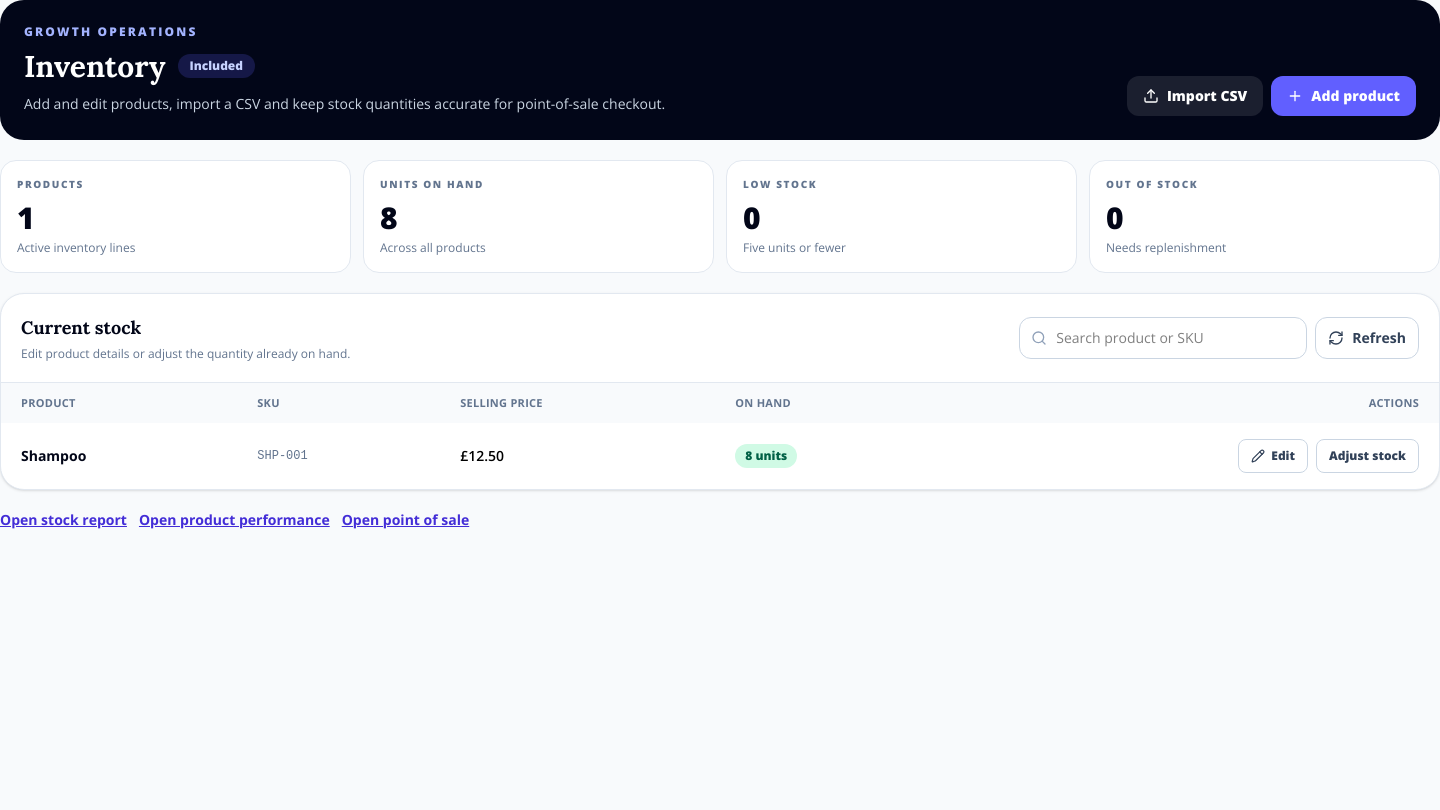
InventoryPage › shows live stock and opens manual and CSV workflows
Expected: the text "Shampoo" is shown, [1, 423, 237, 489]
Expected: the text "8 units" is shown, [735, 444, 797, 468]
Click the button "Add product" at (1344, 96), box [1271, 76, 1416, 116]
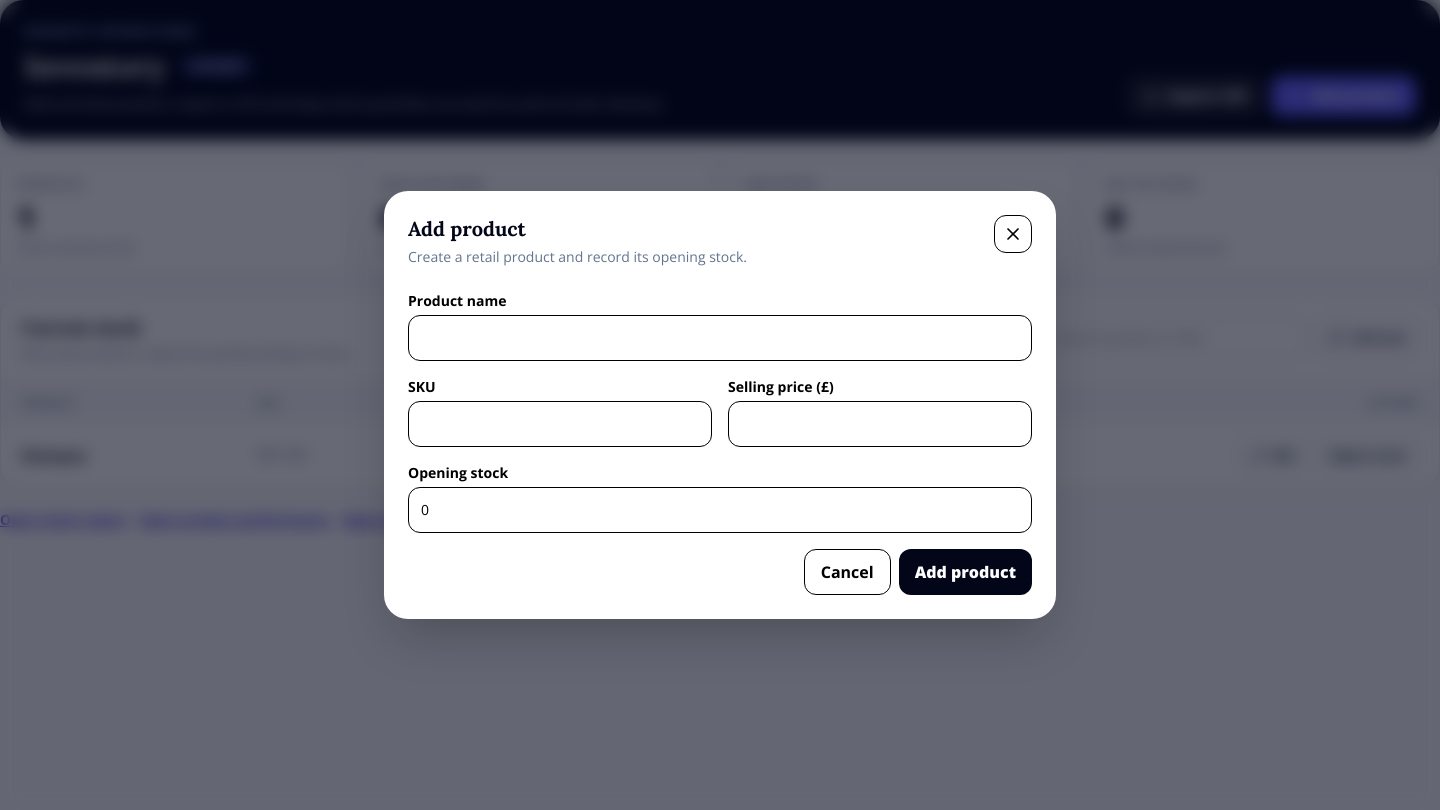
Expected: the dialog "Add product" is shown, [384, 191, 1056, 619]
Click the button named "Close Add product" at (1013, 234), box [994, 215, 1032, 253]
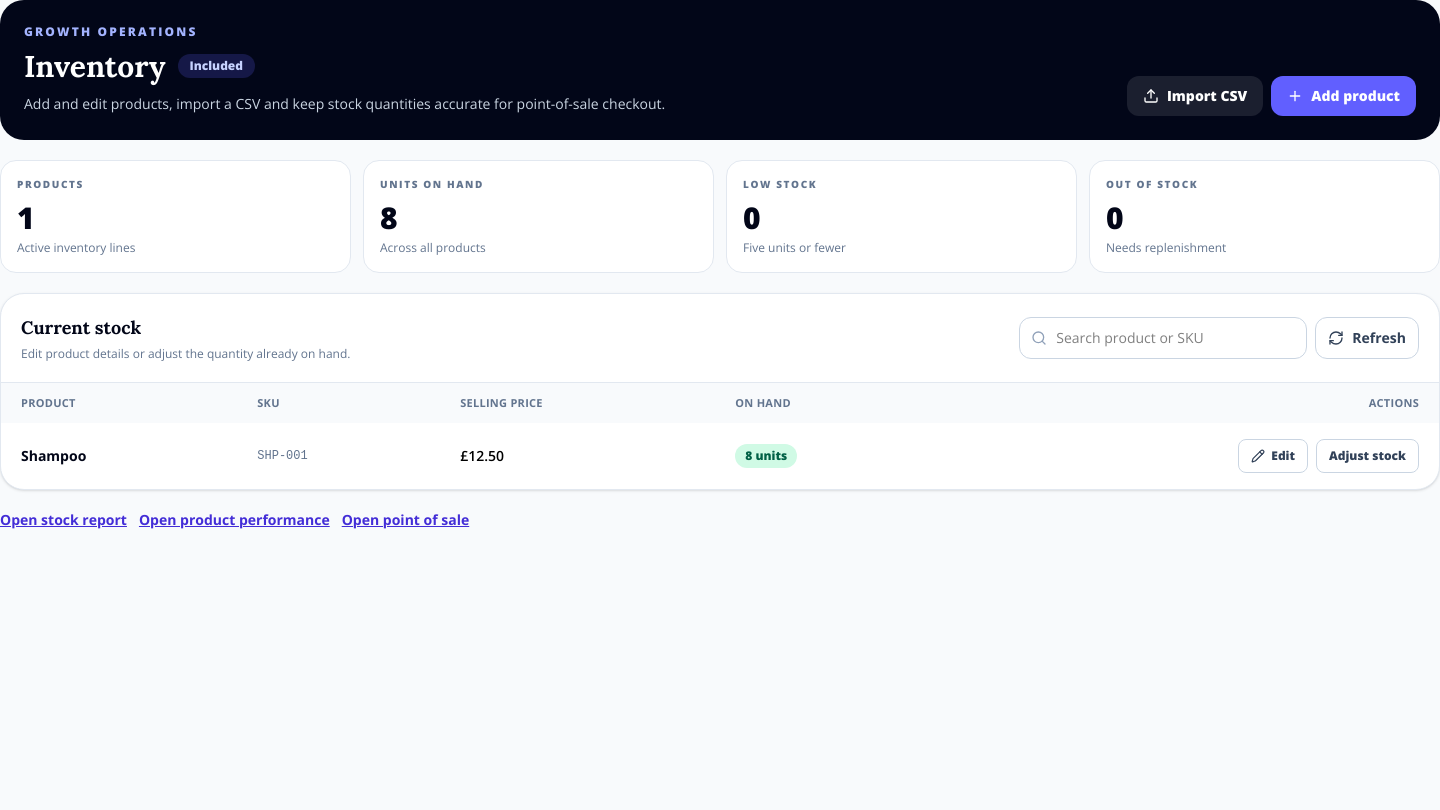
Click the button "Import CSV" at (1195, 96), box [1127, 76, 1263, 116]
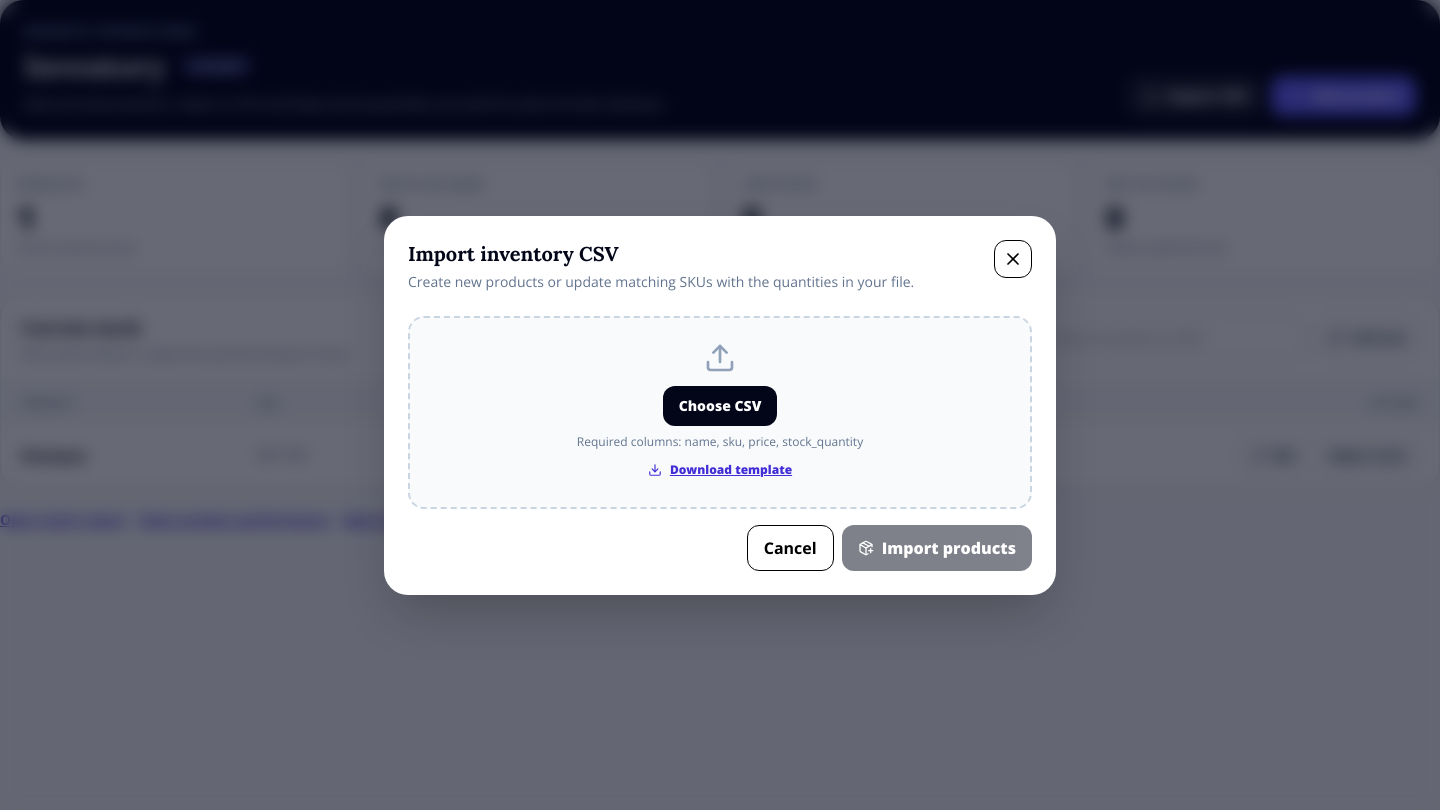
Expected: the dialog "Import inventory CSV" is shown, [384, 216, 1056, 594]
Expected: the text "Required columns: name, sku, price, stock_quantity" is shown, [577, 432, 863, 450]
